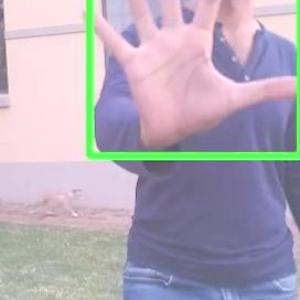follow_hand: (77, 0, 299, 149)
